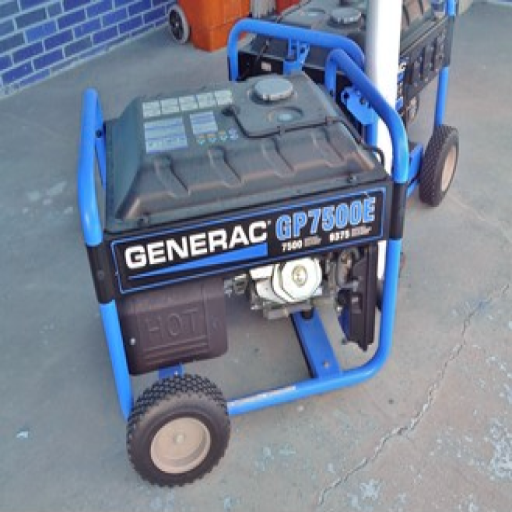portable_generator: (81, 48, 406, 416), (227, 1, 461, 204)
